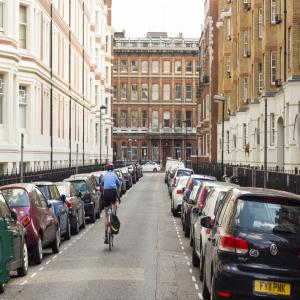Vehicle-registration-plate: (255, 281, 292, 297)
